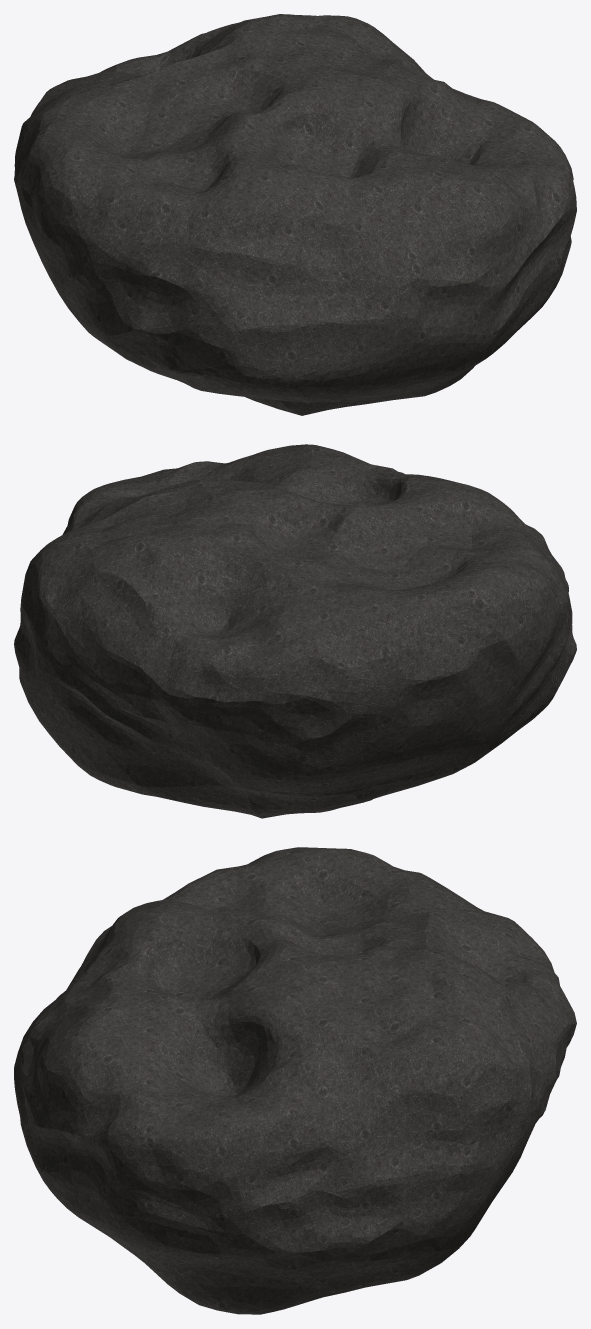
File: asterioid-draco-transformed.glb
The picture shows the model from 3 angles, top to bottom: view 1: azimuth 30°, elevation 25°; view 2: azimuth 150°, elevation 25°; view 3: azimuth 270°, elevation 25°; orthographic projection. The views are drawn at different scales.
Parts seen in each view (by area): view 1: Asterioid Body; view 2: Asterioid Body; view 3: Asterioid Body.
Part boxes in pixels (bbox=[...]): Asterioid Body: bbox=[14, 14, 576, 415]; Asterioid Body: bbox=[14, 444, 576, 818]; Asterioid Body: bbox=[14, 847, 576, 1314].
Size of the model in its own units: 8.17 by 4.84 by 7.85.
Materials: 1 (1 with a texture image).
